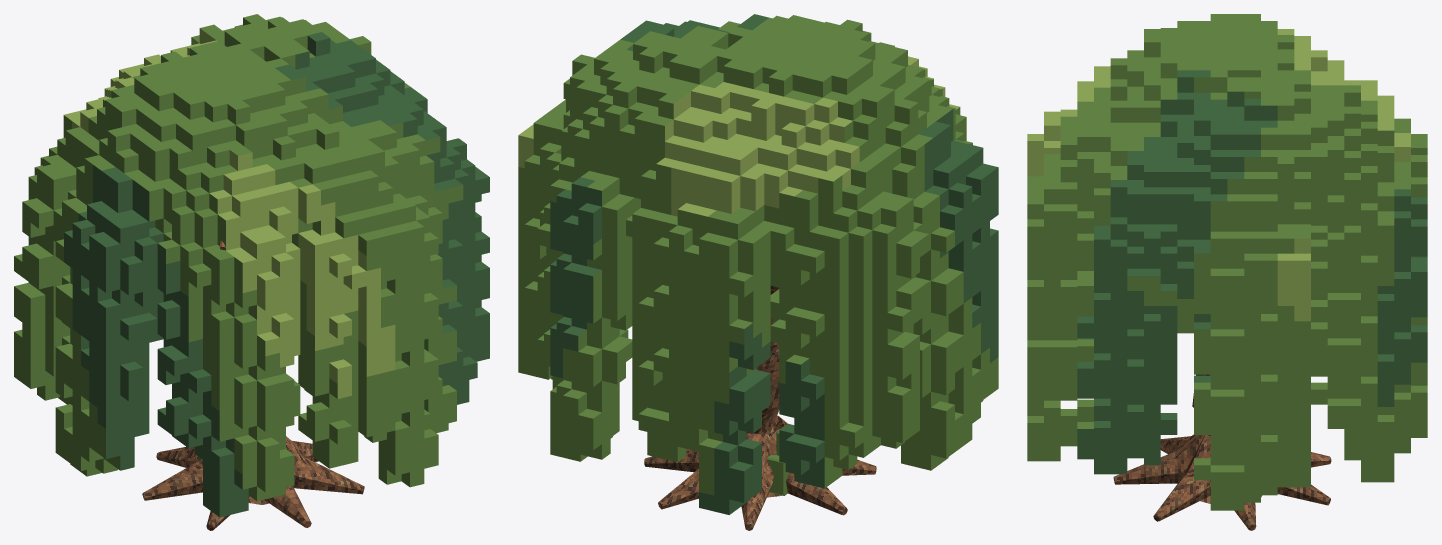
3 renders of one model, left to right at view 1: azimuth 30°, elevation 25°; view 2: azimuth 150°, elevation 25°; view 3: azimuth 270°, elevation 25°, orthographic. The views are drawn at different scales.
Visible parts, largest first — view 1: Canopy__willow, Trunk__bark; view 2: Canopy__willow, Trunk__bark, Moss__moss; view 3: Canopy__willow, Trunk__bark.
Boxes of the visible parts, x1=… form: Canopy__willow: x1=14, y1=14, x2=489, y2=517; Trunk__bark: x1=142, y1=436, x2=364, y2=530; Canopy__willow: x1=518, y1=14, x2=998, y2=514; Trunk__bark: x1=644, y1=317, x2=876, y2=530; Moss__moss: x1=767, y1=425, x2=788, y2=495; Canopy__willow: x1=1027, y1=14, x2=1427, y2=510; Trunk__bark: x1=1113, y1=374, x2=1331, y2=530.
Size of the model in its own units: 4.68 by 5.09 by 4.32.
5 materials, 1 textured.
